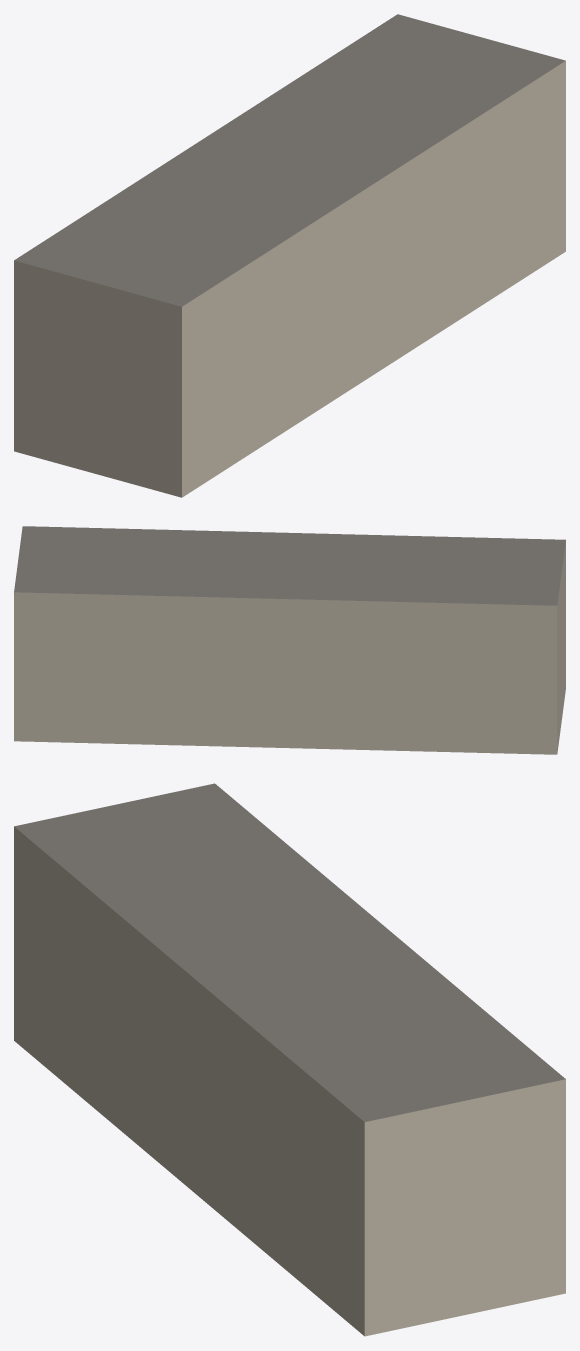
The picture shows the model from 3 angles, top to bottom: view 1: azimuth 30°, elevation 25°; view 2: azimuth 150°, elevation 25°; view 3: azimuth 270°, elevation 25°; orthographic projection. The views are drawn at different scales.
Visible parts, largest first — view 1: HP-w1287060501; view 2: HP-w1287060501; view 3: HP-w1287060501.
Boxes of the visible parts, x1,y1,x2,y2 form: HP-w1287060501: (14,14,565,497); HP-w1287060501: (14,526,565,754); HP-w1287060501: (14,783,565,1336).
Size of the model in its own units: 61.03 by 18 by 42.02.
